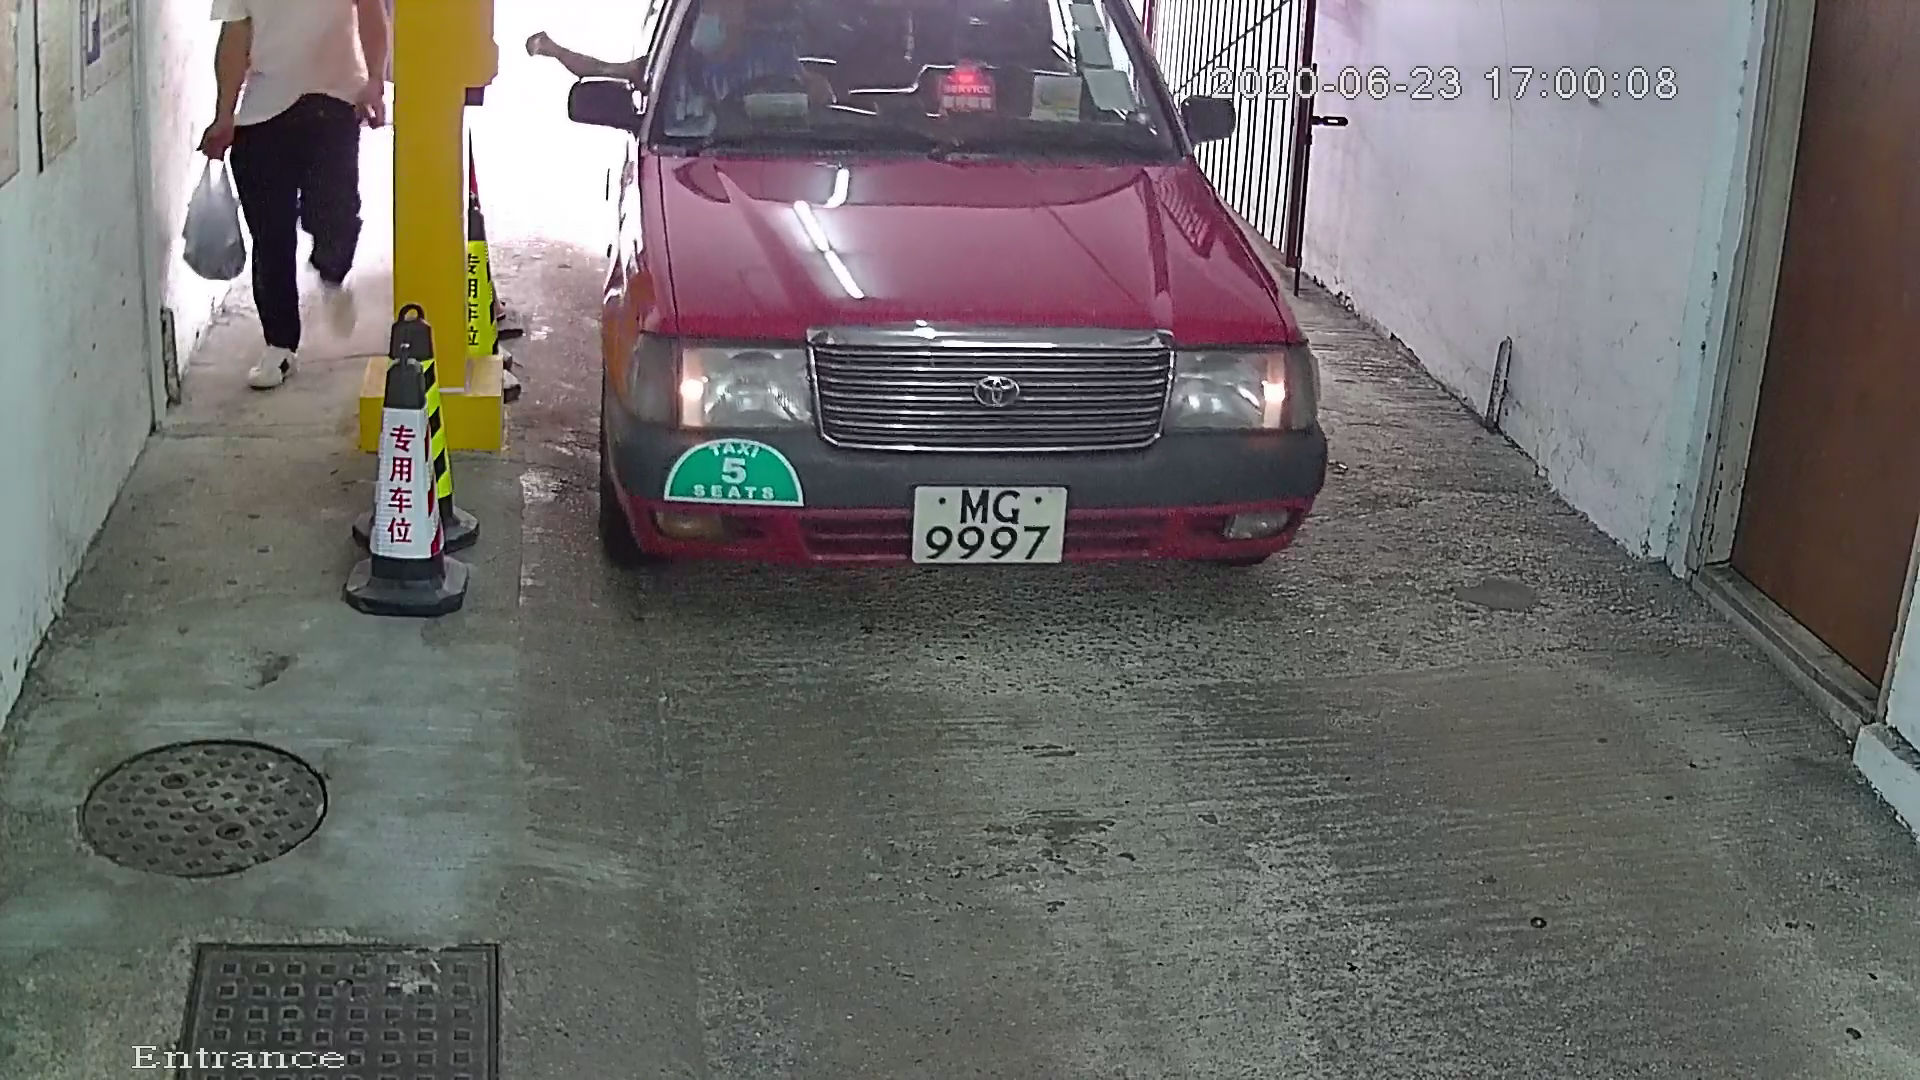taxi: (545, 3, 1404, 625)
taxi_mark: (647, 414, 829, 537)
